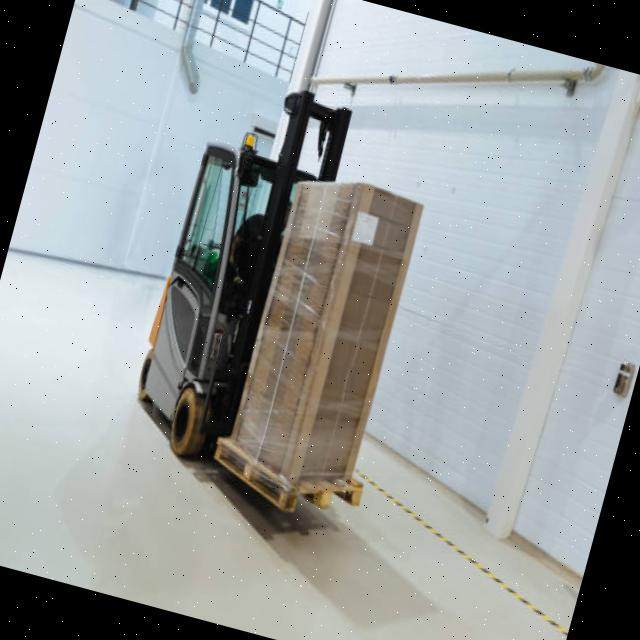Wooden-Pallets: (209, 441, 369, 509)
